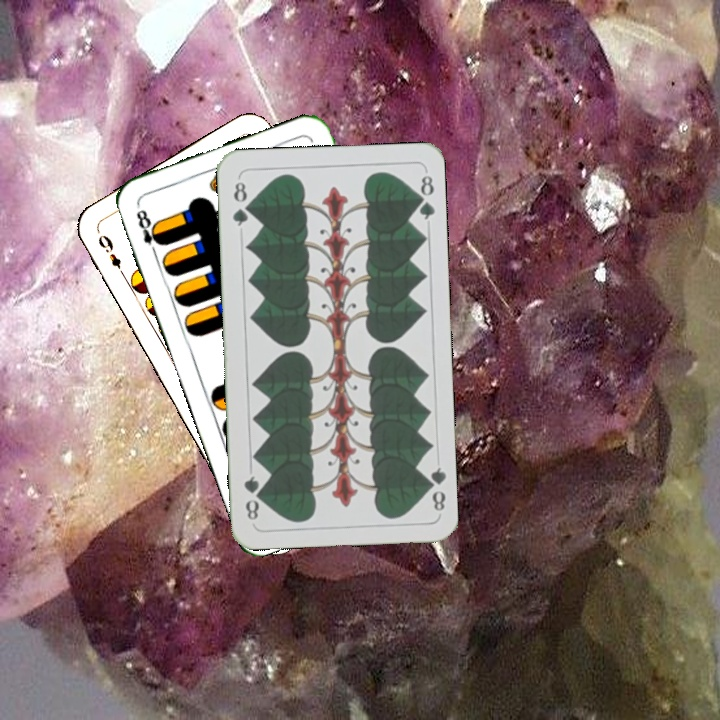E8: (132, 201, 166, 259)
E9: (94, 230, 129, 281)
G8: (421, 463, 448, 514), (228, 174, 252, 228)
